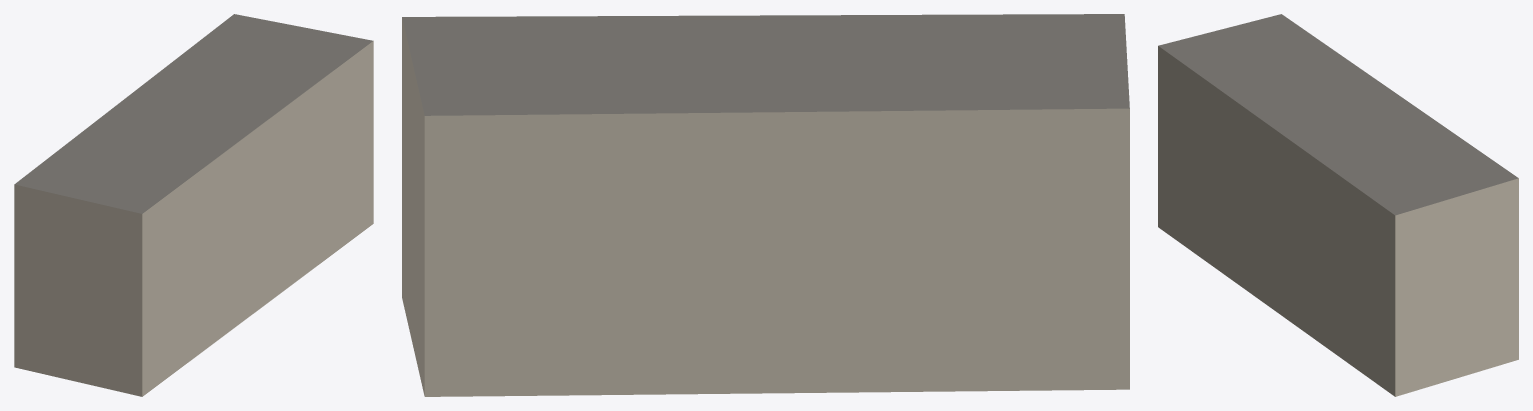
3 renders of one model, left to right at view 1: azimuth 30°, elevation 25°; view 2: azimuth 150°, elevation 25°; view 3: azimuth 270°, elevation 25°, orthographic. The views are drawn at different scales.
Parts seen in each view (by area): view 1: HP-w505633369; view 2: HP-w505633369; view 3: HP-w505633369.
Boxes of the visible parts, left/top/right/bottom form: HP-w505633369: left=14, top=14, right=373, bottom=396; HP-w505633369: left=402, top=14, right=1129, bottom=396; HP-w505633369: left=1158, top=14, right=1518, bottom=396.
Size of the model in its own units: 42.87 by 18 by 32.43.
